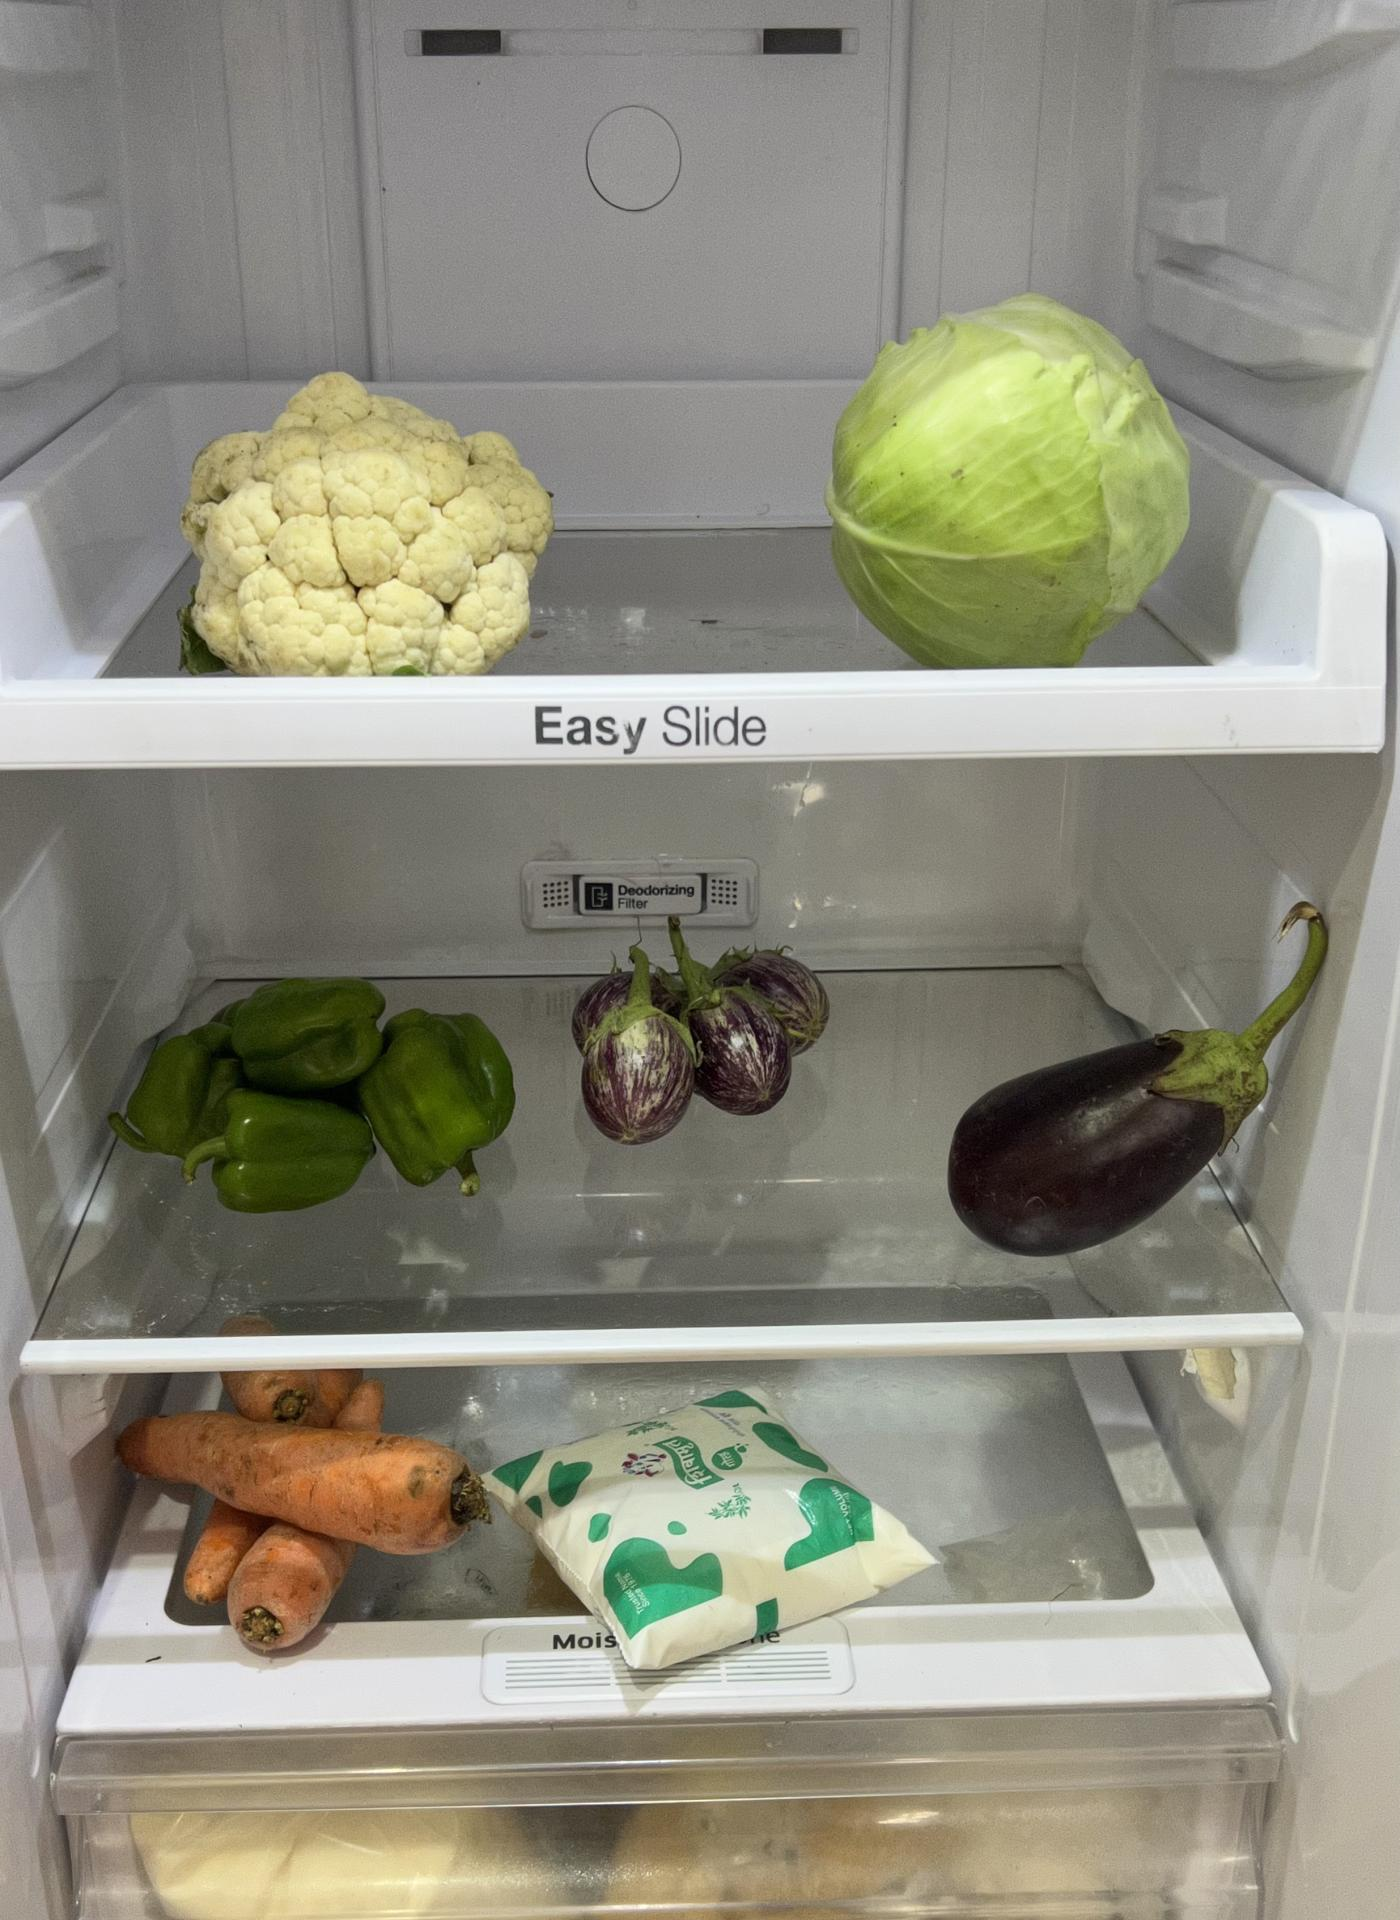cabbage: (835, 292, 1193, 668)
capsicum: (118, 964, 520, 1209)
carrots: (97, 1364, 486, 1656)
cauliflower: (180, 371, 550, 678)
milk: (486, 1391, 938, 1668)
